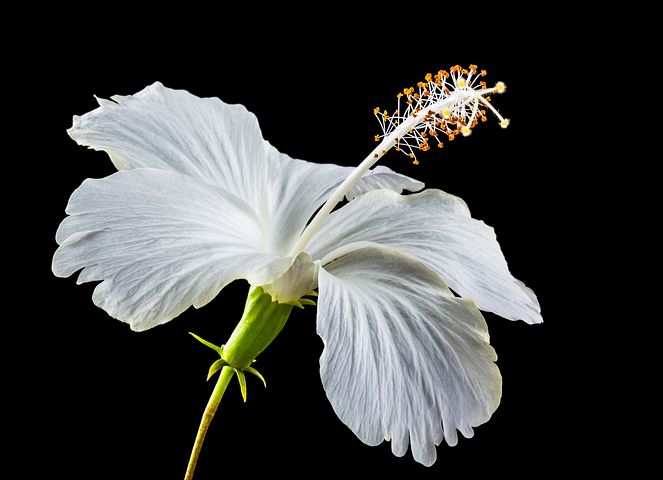Hibiscus: (40, 48, 592, 466)
